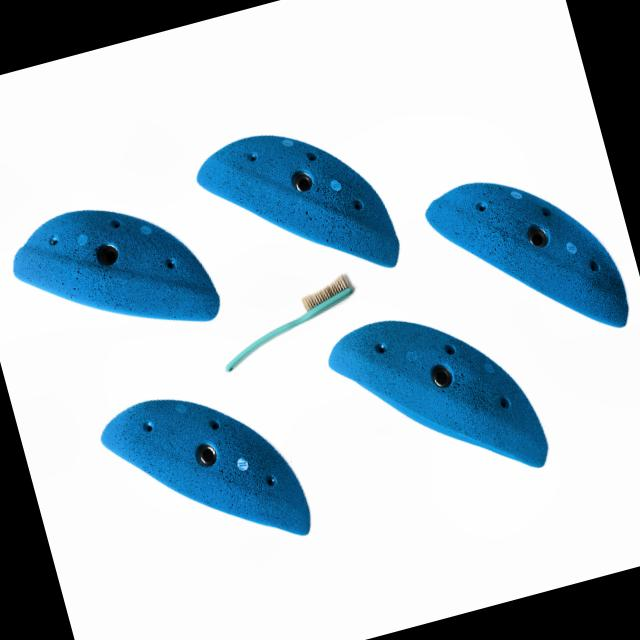Hold: (322, 288, 557, 520), (414, 147, 637, 374), (90, 363, 321, 579), (186, 108, 408, 320), (0, 181, 230, 367)
